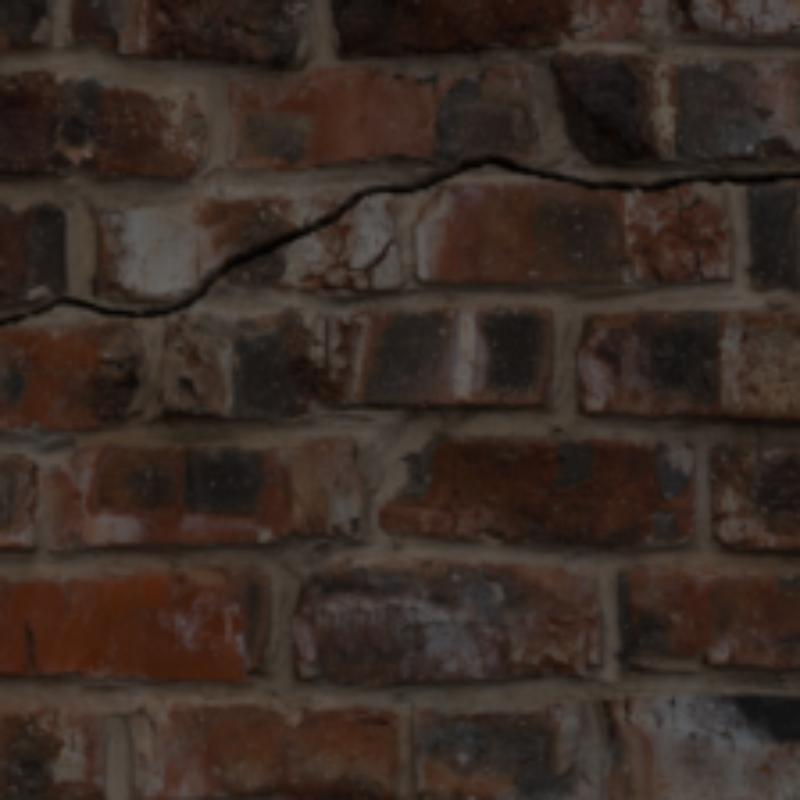pothole: (0, 154, 796, 325), (365, 243, 394, 271)
